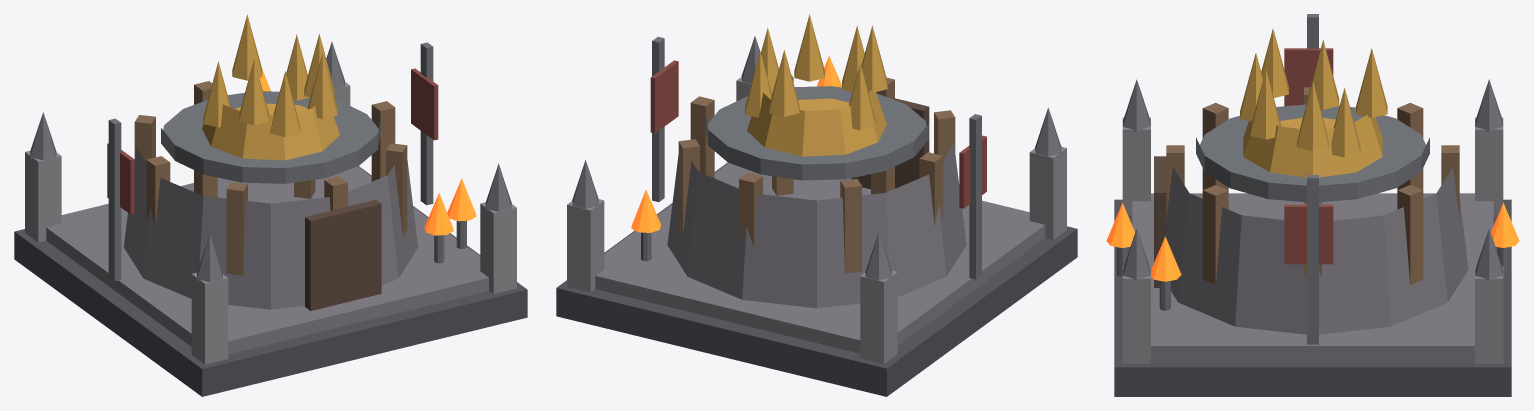
The model's file is gold_mine.glb.
The picture shows the model from 3 angles, left to right: view 1: azimuth 30°, elevation 25°; view 2: azimuth 150°, elevation 25°; view 3: azimuth 270°, elevation 25°; orthographic projection. The views are drawn at different scales.
Parts seen in each view (by area): view 1: Gold Mine; view 2: Gold Mine; view 3: Gold Mine.
Boxes of the visible parts, x1=… form: Gold Mine: x1=14, y1=14, x2=527, y2=396; Gold Mine: x1=556, y1=14, x2=1077, y2=396; Gold Mine: x1=1106, y1=14, x2=1519, y2=396.
Size of the model in its own units: 3.9 by 2.9 by 4.06.
